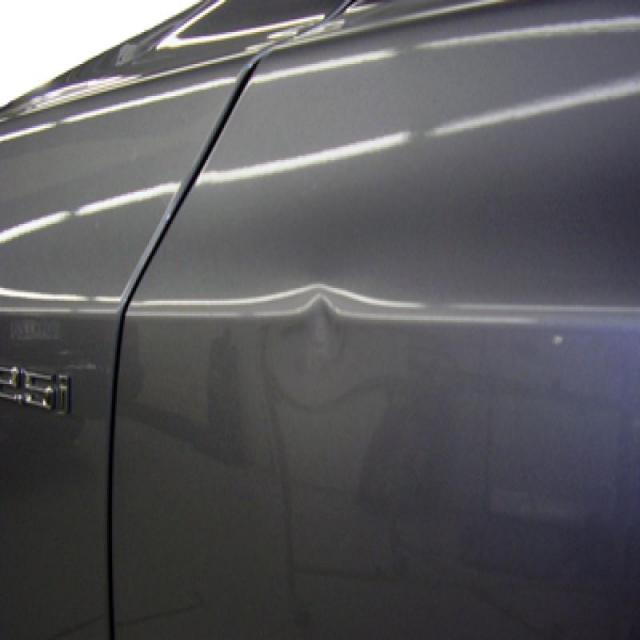car damage: (281, 279, 367, 359)
